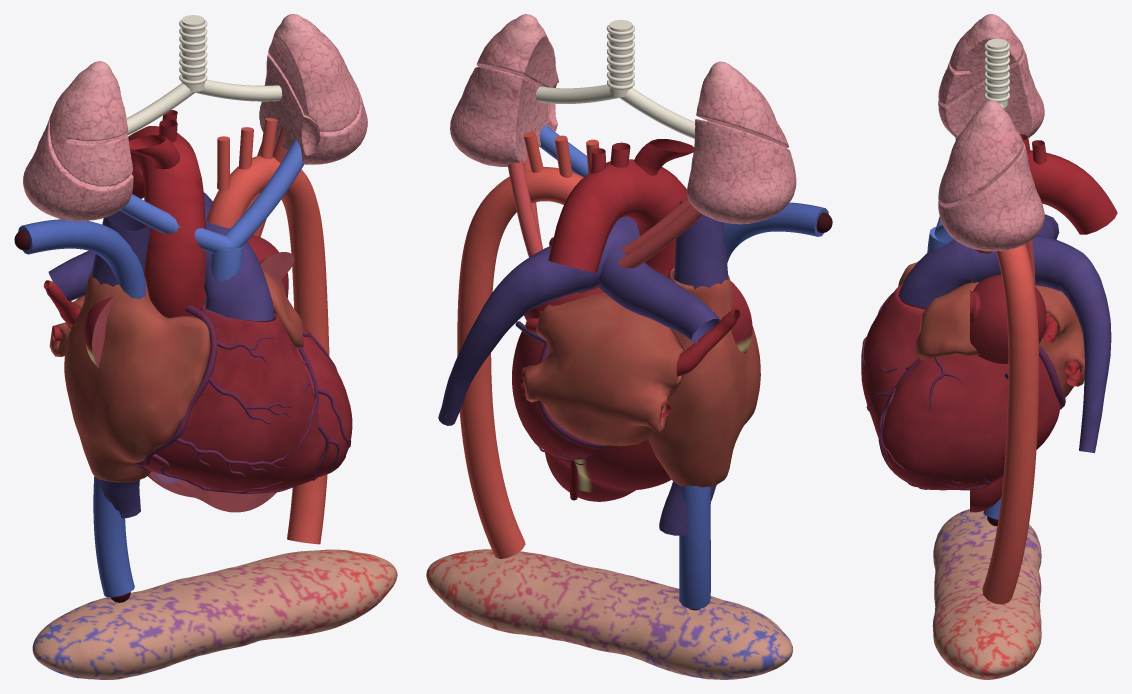
Rendered from heart.glb.
3 views of the same model, side by side, from view 1: azimuth 30°, elevation 25°; view 2: azimuth 150°, elevation 25°; view 3: azimuth 270°, elevation 25° (orthographic). The views are drawn at different scales.
Parts seen in each view (by area): view 1: heart_lung, heart_body, heart_ext_ra, heart_ext_rv, heart_aorta, heart_ext_aorta, heart_vc, heart_pa, heart_ext_pa, heart_ext_cor, heart_ext_lv, heart_ext_vc (+6 smaller); view 2: heart_lung, heart_body, heart_ext_la, heart_aorta, heart_ext_pa, heart_ext_ra, heart_ext_aorta, heart_vc, heart_ext_vc, heart_pv, heart_rv, heart_ext_lv (+5 smaller); view 3: heart_lung, heart_ext_lv, heart_body, heart_aorta, heart_ext_pa, heart_ext_la, heart_ext_rv, heart_ext_aorta, heart_la, heart_ext_cor, heart_lv, heart_ext_pv (+1 smaller).
Part boxes in pixels (x1,y1,x2,y2): heart_lung: (23,14,367,221); heart_body: (32,549,397,679); heart_ext_ra: (64,272,210,482); heart_ext_rv: (138,305,321,492); heart_aorta: (207,117,329,544); heart_ext_aorta: (128,110,206,317); heart_vc: (14,219,146,602); heart_pa: (120,140,304,318); heart_ext_pa: (48,192,274,321); heart_ext_cor: (135,305,351,493); heart_ext_lv: (297,325,352,477); heart_ext_vc: (92,210,151,518); heart_lung: (450,14,796,224); heart_body: (426,549,793,679); heart_ext_la: (523,293,683,445); heart_aorta: (457,131,599,558); heart_ext_pa: (438,216,720,425); heart_ext_ra: (648,267,760,487); heart_ext_aorta: (548,139,693,277); heart_vc: (679,202,832,610); heart_ext_vc: (659,201,728,535); heart_pv: (508,153,702,293); heart_rv: (515,321,671,496); heart_ext_lv: (512,323,596,460); heart_lung: (938,14,1044,251); heart_ext_lv: (881,355,1060,489); heart_body: (932,509,1041,679); heart_aorta: (968,244,1038,604); heart_ext_pa: (898,214,1111,452); heart_ext_la: (916,281,1084,397); heart_ext_rv: (861,282,925,437); heart_ext_aorta: (1020,134,1117,234); heart_la: (970,274,1046,363); heart_ext_cor: (861,293,1065,490); heart_lv: (970,476,1003,512); heart_ext_pv: (1042,315,1081,386).
Bounding box in the file's own units: 4.23 × 6.52 × 2.65.
